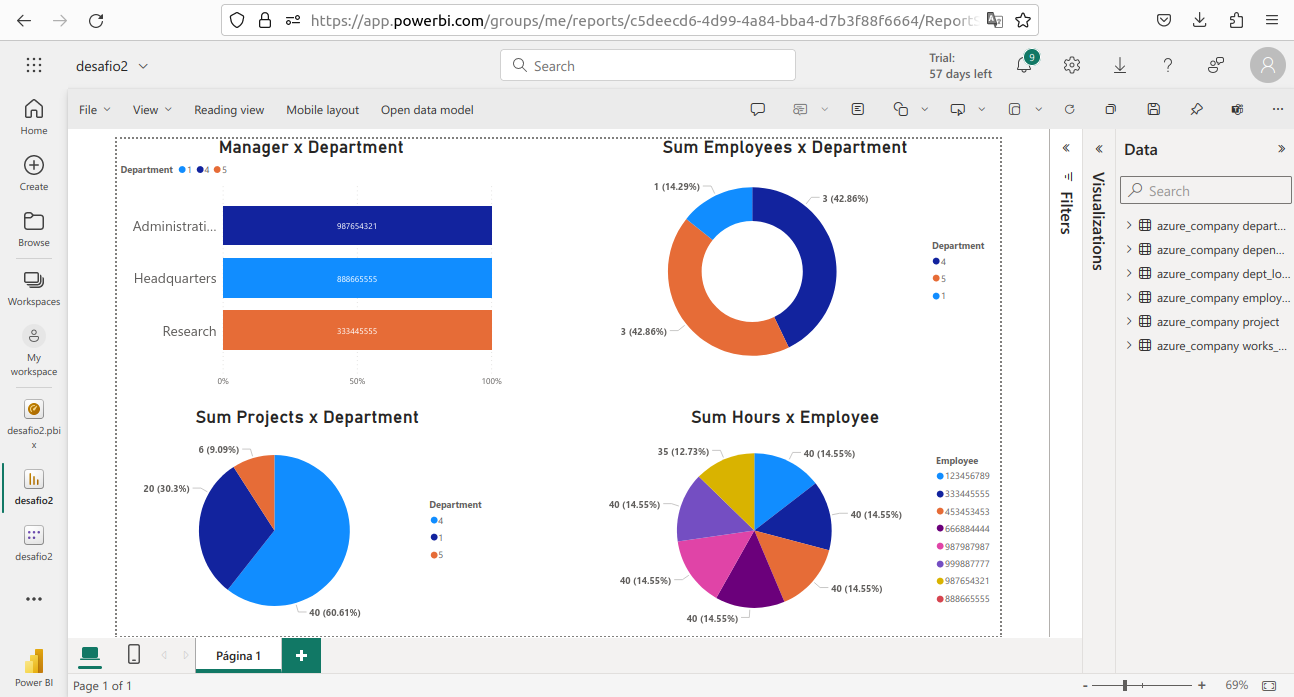

Layout of this report page (visuals, bound fields, positions):
{"tool":"powerbi","page":{"name":"Página 1","canvas":[1280,720],"ordinal":0},"visuals":[{"type":"pieChart","title":"Sum Hours x Employee","fields":{"Category":["azure_company works_on.Essn"],"Y":["azure_company works_on.Hours"]},"box":[656.6,391.7,623.5,328.3],"z":0},{"type":"donutChart","title":"Sum Employees x Department","fields":{"Category":["azure_company employee.Dno"],"Y":["azure_company employee.Employee"]},"box":[656.6,0,623.5,360],"z":1000},{"type":"pieChart","title":"Sum Projects x Department","fields":{"Category":["azure_company project.Dnum"],"Y":["azure_company project.Pnumber"]},"box":[0,391.7,551.5,328.3],"z":2000},{"type":"hundredPercentStackedBarChart","title":"Manager x Department","fields":{"Category":["azure_company departament.Valor"],"Y":["Divide(CountNonNull(azure_company departament.Mgr_ssn), ScopedEval(CountNonNull(azure_company departament.Mgr_ssn), []))"],"Series":["azure_company departament.Dnumber"]},"box":[0,0,563,370.1],"z":3000}]}

Visuals, with their boxes on the page's 1280x720 design canvas (x1, y1, x2, y2). These are canvas units, not pixel positions in the 1294x697 screenshot, which may show the page scaled, cropped or inside an application window:
"Sum Hours x Employee" pieChart: <box>657,392,1280,720</box>
"Sum Employees x Department" donutChart: <box>657,0,1280,360</box>
"Sum Projects x Department" pieChart: <box>0,392,552,720</box>
"Manager x Department" hundredPercentStackedBarChart: <box>0,0,563,370</box>
